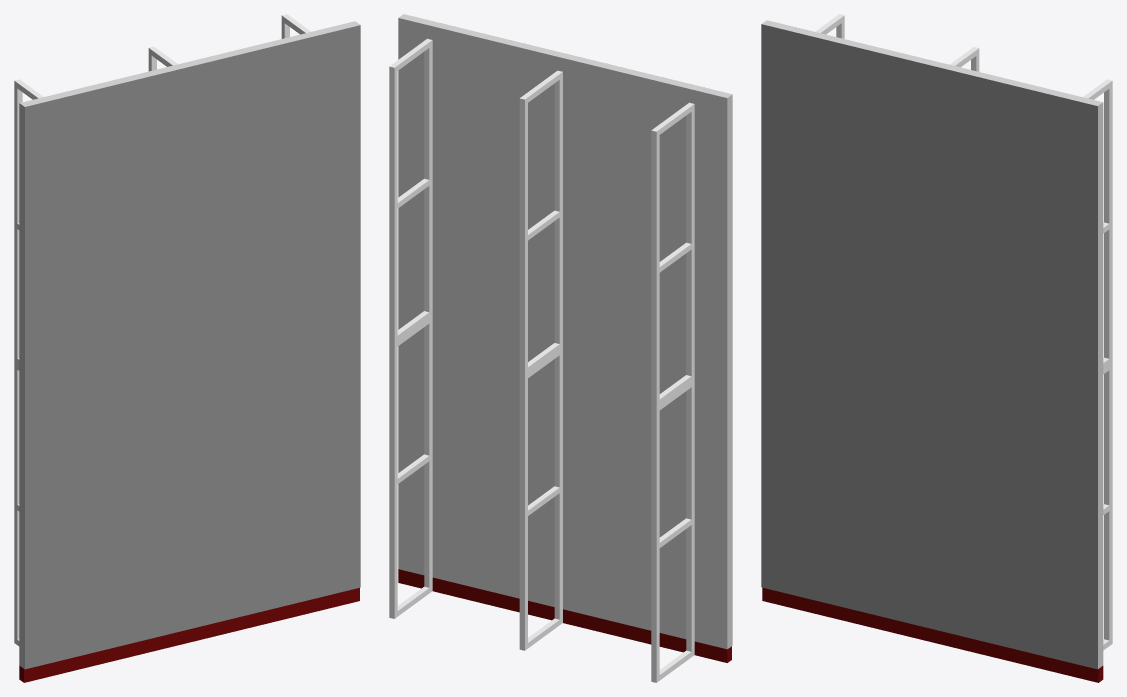
3 renders of one model, left to right at view 1: azimuth 30°, elevation 25°; view 2: azimuth 150°, elevation 25°; view 3: azimuth 330°, elevation 25°, orthographic. The views are drawn at different scales.
Visible parts, largest first — view 1: Mesh1_Color_006_0, Mesh1_Color_002_0, Mesh29_Color_A21_0, Mesh17_FrontColor_0; view 2: Mesh1_Color_002_0, Mesh17_FrontColor_0, Mesh29_Color_A21_0; view 3: Mesh1_Color_006_0, Mesh17_FrontColor_0, Mesh1_Color_002_0, Mesh29_Color_A21_0.
Boxes of the visible parts, x1,y1,x2,y2 form: Mesh1_Color_006_0: (25,25,360,669); Mesh1_Color_002_0: (19,21,359,669); Mesh29_Color_A21_0: (19,588,359,682); Mesh17_FrontColor_0: (14,14,310,646); Mesh1_Color_002_0: (398,14,732,649); Mesh17_FrontColor_0: (389,38,694,682); Mesh29_Color_A21_0: (398,569,731,662); Mesh1_Color_006_0: (761,24,1097,669); Mesh17_FrontColor_0: (815,14,1112,650); Mesh1_Color_002_0: (762,20,1103,668); Mesh29_Color_A21_0: (762,587,1103,682).
Bounding box in the file's own units: 0.025 × 0.041 × 0.0057.
